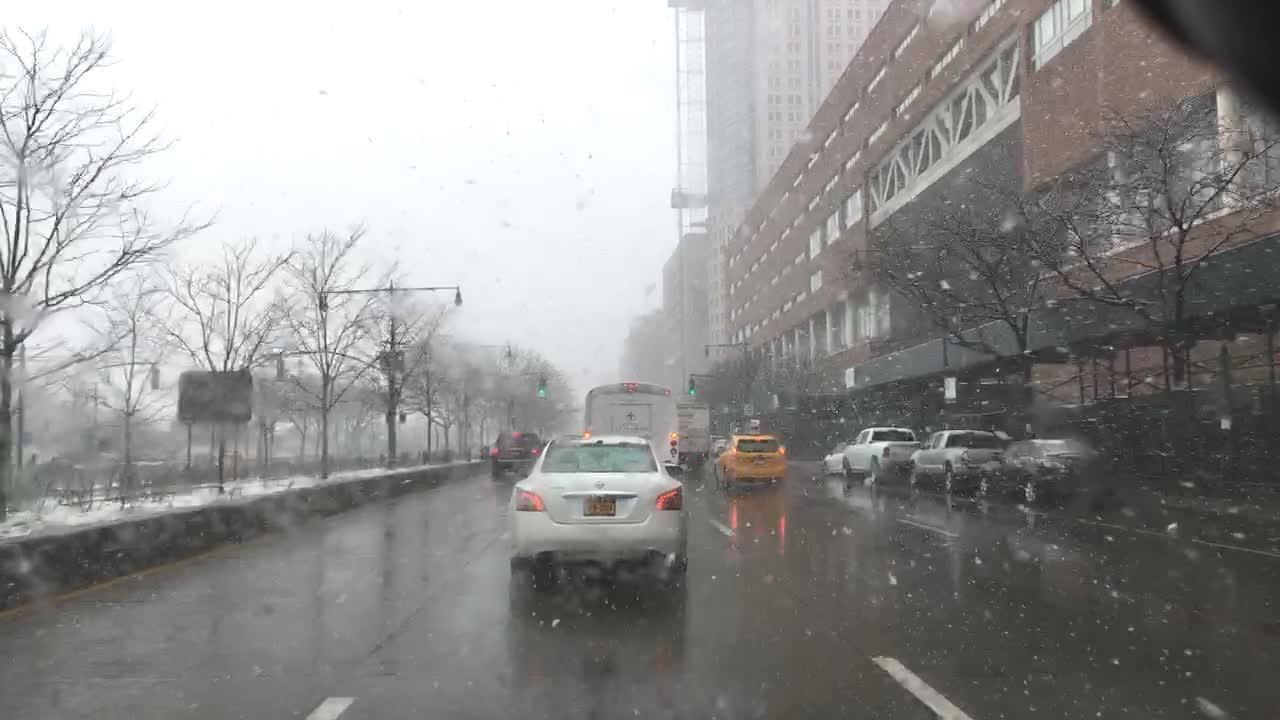Nissan: (592, 479, 607, 490)
